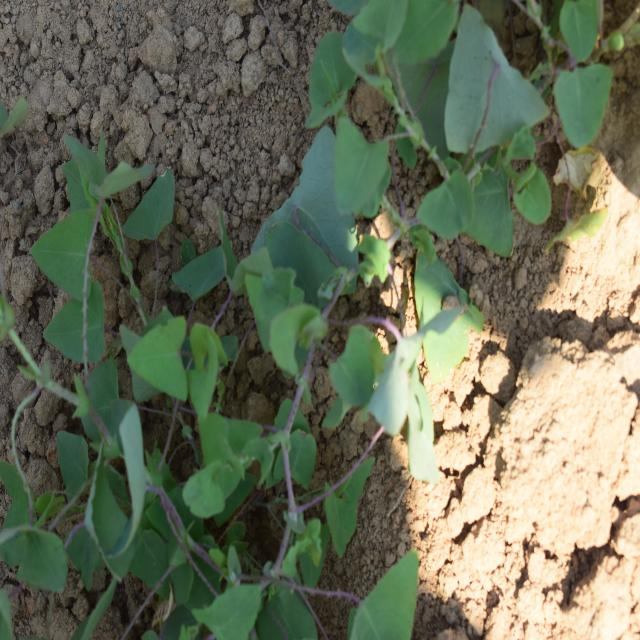Asiatic_Smartweed: (417, 0, 554, 279), (188, 422, 348, 567), (126, 280, 246, 433)
